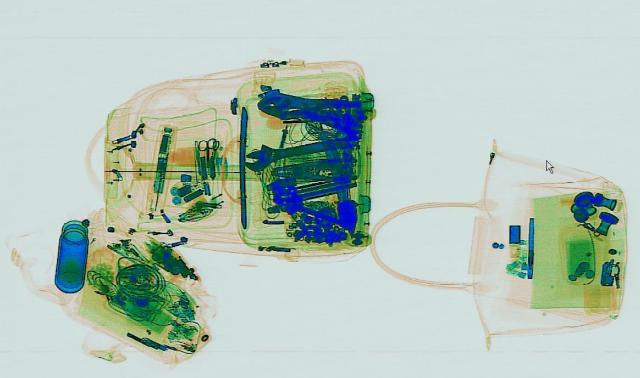Pliers: (254, 88, 366, 123), (268, 157, 356, 182)
Wrench: (232, 127, 366, 171)
